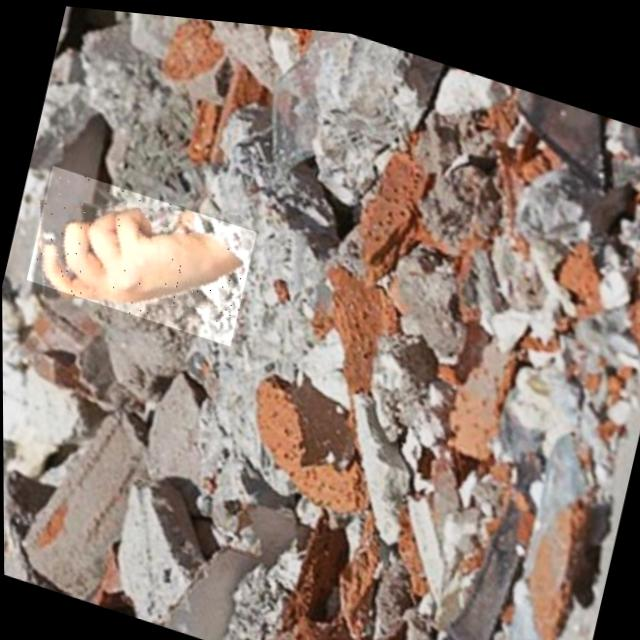Person in Rubble: (25, 161, 257, 343)
